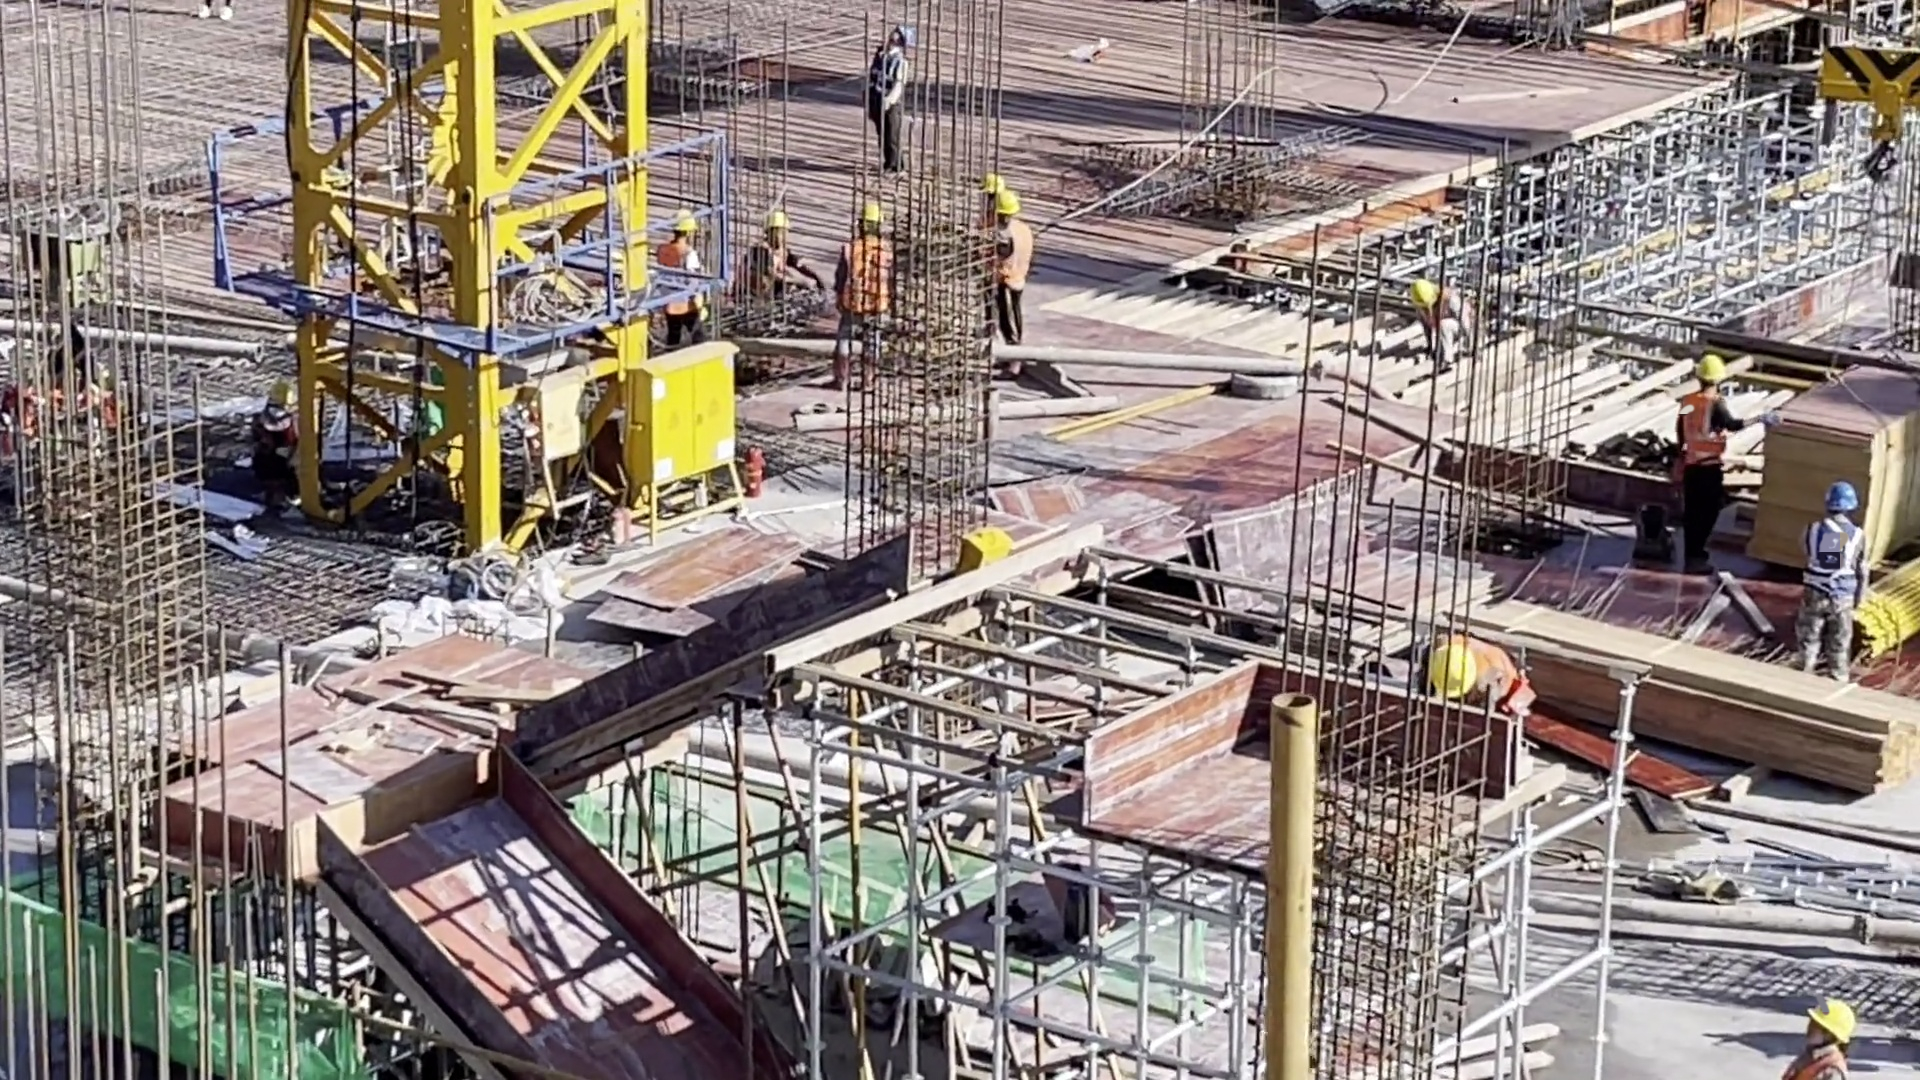board: (1744, 339, 1909, 559)
ebox: (621, 347, 744, 494), (536, 336, 609, 461), (956, 524, 1003, 559)
helmet: (1443, 634, 1476, 699), (1813, 996, 1852, 1041), (1826, 478, 1865, 520), (764, 213, 806, 246), (1695, 356, 1730, 390), (988, 185, 1020, 218), (673, 207, 705, 237), (274, 376, 304, 406), (861, 202, 891, 231), (897, 19, 918, 53), (978, 171, 1008, 190), (1413, 277, 1435, 301)
hook: (1843, 51, 1920, 166)
person: (1788, 470, 1873, 673), (1672, 349, 1743, 578), (1418, 618, 1539, 733), (1774, 983, 1865, 1080), (845, 191, 888, 398), (863, 21, 916, 180), (745, 207, 822, 316), (1409, 267, 1485, 370), (248, 367, 311, 488), (654, 204, 706, 341), (998, 191, 1032, 375), (974, 166, 1005, 308)
vest: (1451, 626, 1539, 724), (1809, 519, 1858, 602), (1681, 380, 1723, 461), (840, 235, 878, 319), (663, 243, 698, 315), (261, 409, 300, 468), (1433, 290, 1476, 342), (1796, 1036, 1843, 1080), (877, 49, 910, 109), (752, 244, 793, 293), (978, 209, 1002, 286), (1010, 222, 1026, 301)
wood: (1461, 592, 1914, 794)
